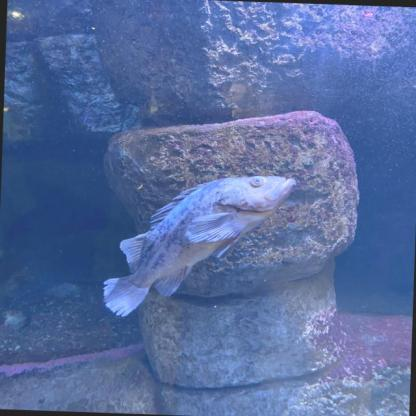fish: (102, 170, 295, 321)
